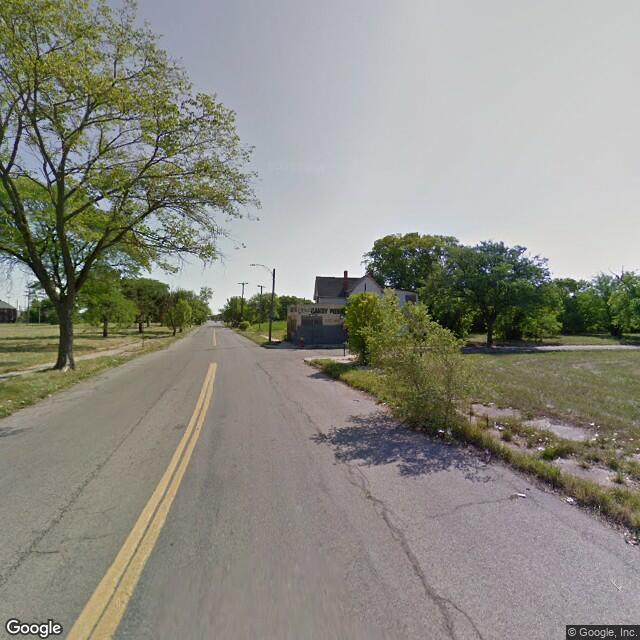litter: (432, 422, 460, 446), (583, 415, 604, 447), (490, 417, 511, 433), (562, 492, 579, 508), (510, 488, 526, 499), (533, 442, 543, 457)
